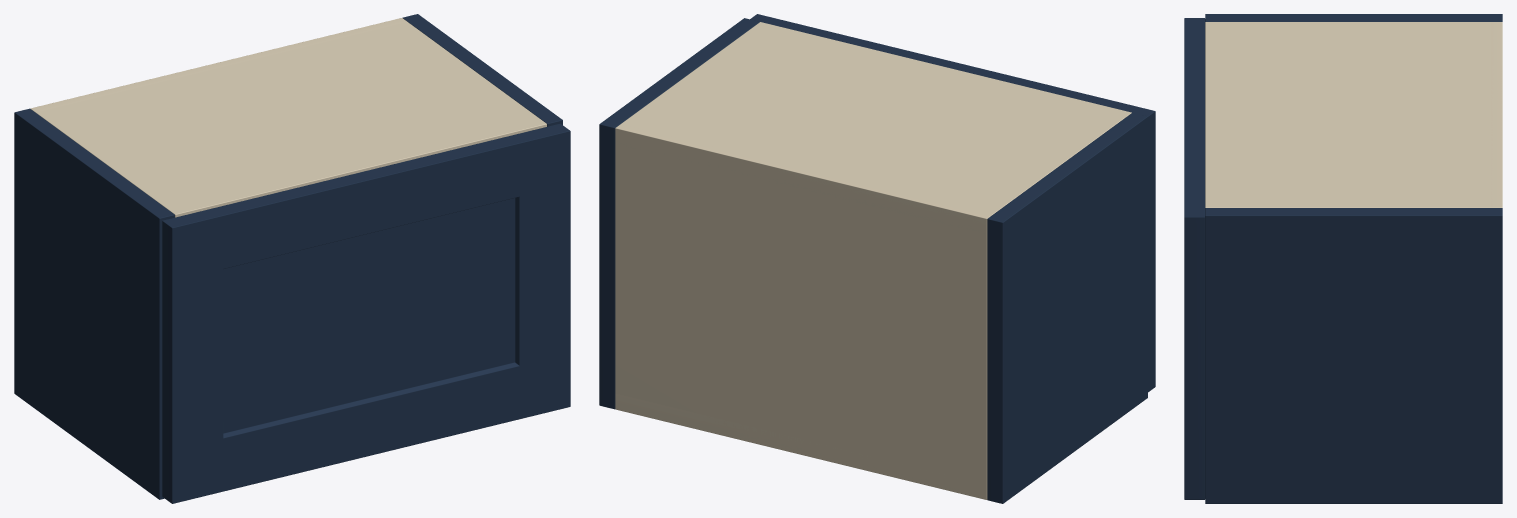
File: oppein-ply-bss-w1812.glb
3 renders of one model, left to right at view 1: azimuth 30°, elevation 25°; view 2: azimuth 150°, elevation 25°; view 3: azimuth 270°, elevation 25°, orthographic. The views are drawn at different scales.
Parts seen in each view (by area): view 1: Door, Cabinet top, Cabinet side, Cabinet side.001, Cabinet back; view 2: Cabinet back, Cabinet top, Cabinet side, Cabinet side.001, Door, Cabinet bottom; view 3: Cabinet side.001, Cabinet top, Door, Cabinet back, Cabinet side.
Boxes of the visible parts, x1,y1,x2,y2 form: Door: (162,123,570,503); Cabinet top: (36,22,546,217); Cabinet side: (14,108,174,499); Cabinet side.001: (402,14,562,126); Cabinet back: (30,18,407,112); Cabinet back: (615,124,992,499); Cabinet top: (615,22,1131,234); Cabinet side: (987,112,1147,503); Cabinet side.001: (599,18,759,409); Door: (750,14,1155,392); Cabinet bottom: (615,394,987,495); Cabinet side.001: (1205,208,1502,503); Cabinet top: (1205,22,1502,207); Door: (1184,18,1205,499); Cabinet back: (1490,22,1502,207); Cabinet side: (1205,14,1502,21).
Bounding box in the file's own units: 0.4572 × 0.3048 × 0.3048.
